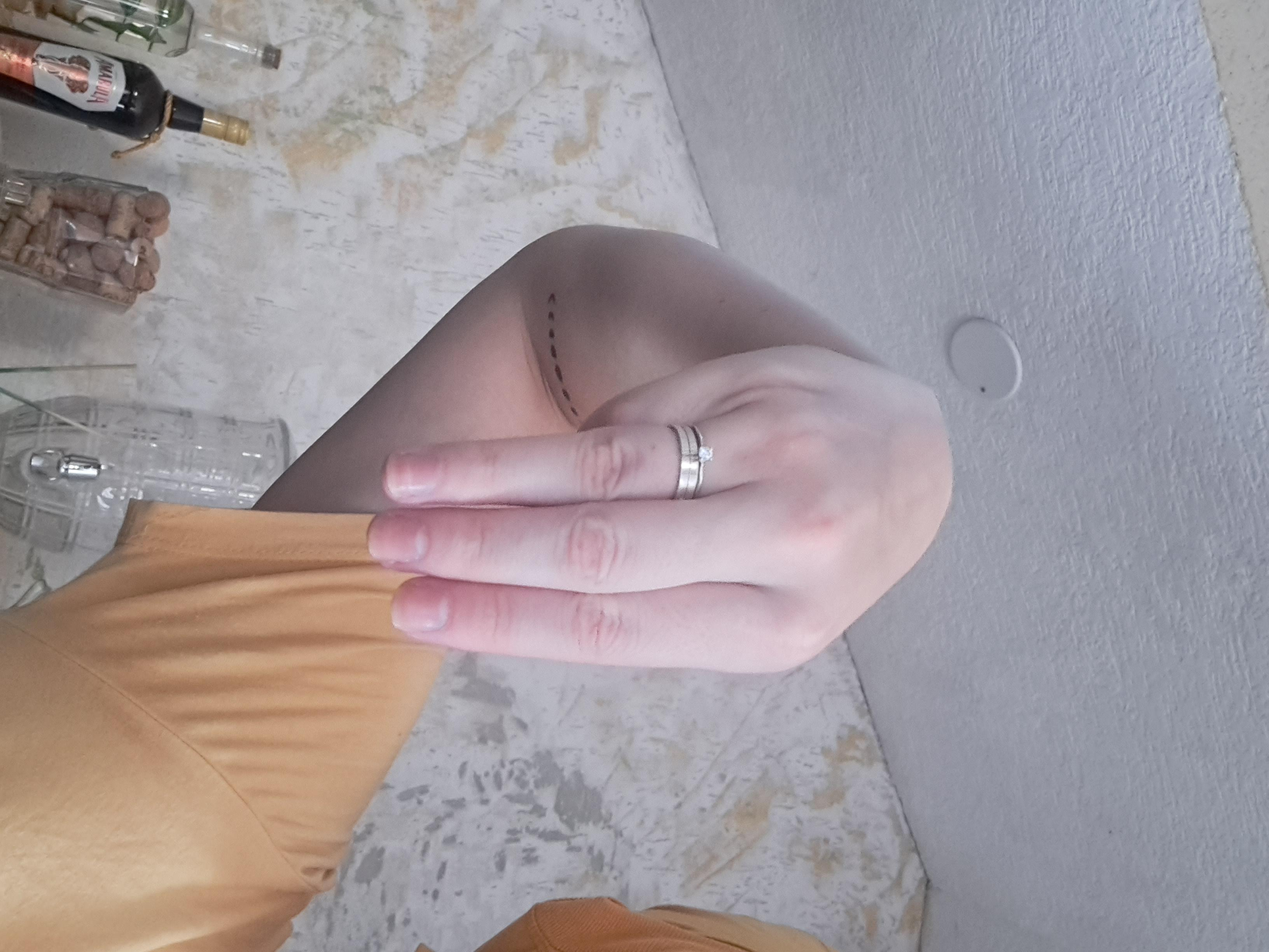M: (425, 210, 959, 685)
